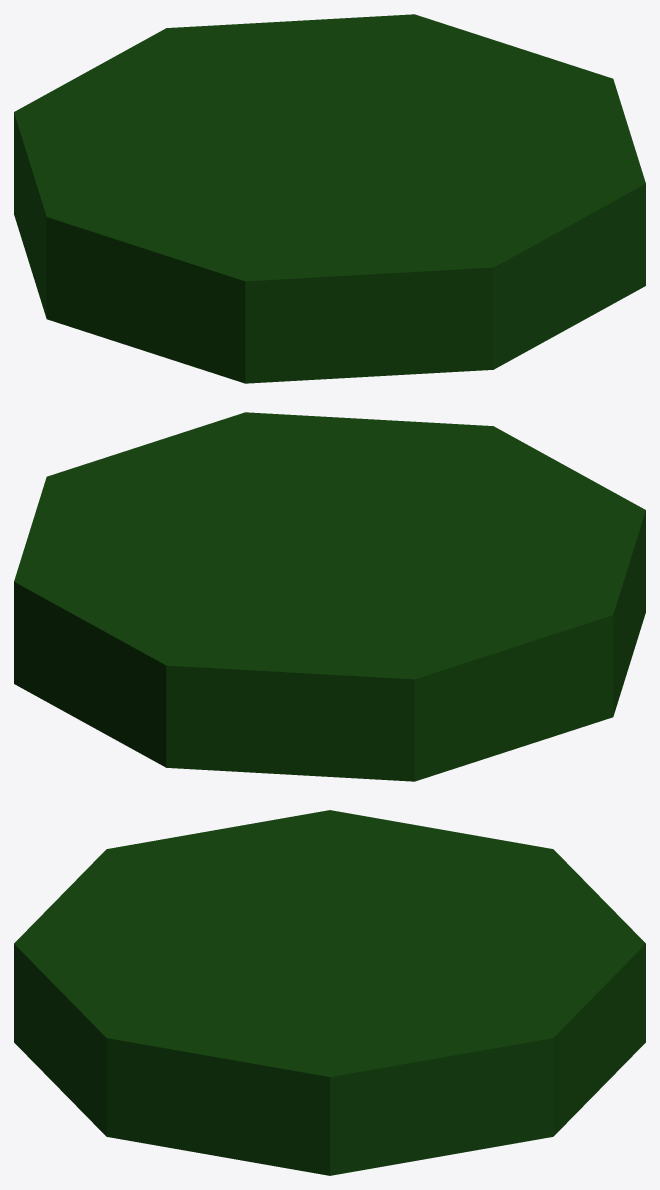
Rendered from food_slice_pickle.FBX.
3 renders of one model, top to bottom at view 1: azimuth 30°, elevation 25°; view 2: azimuth 150°, elevation 25°; view 3: azimuth 270°, elevation 25°, orthographic. The views are drawn at different scales.
Parts seen in each view (by area): view 1: food_slice_pickle; view 2: food_slice_pickle; view 3: food_slice_pickle.
Part boxes in pixels (bbox=[...]): food_slice_pickle: bbox=[14, 14, 645, 383]; food_slice_pickle: bbox=[14, 412, 645, 781]; food_slice_pickle: bbox=[14, 810, 645, 1175].
Size of the model in its own units: 53.61 by 9.25 by 53.61.
